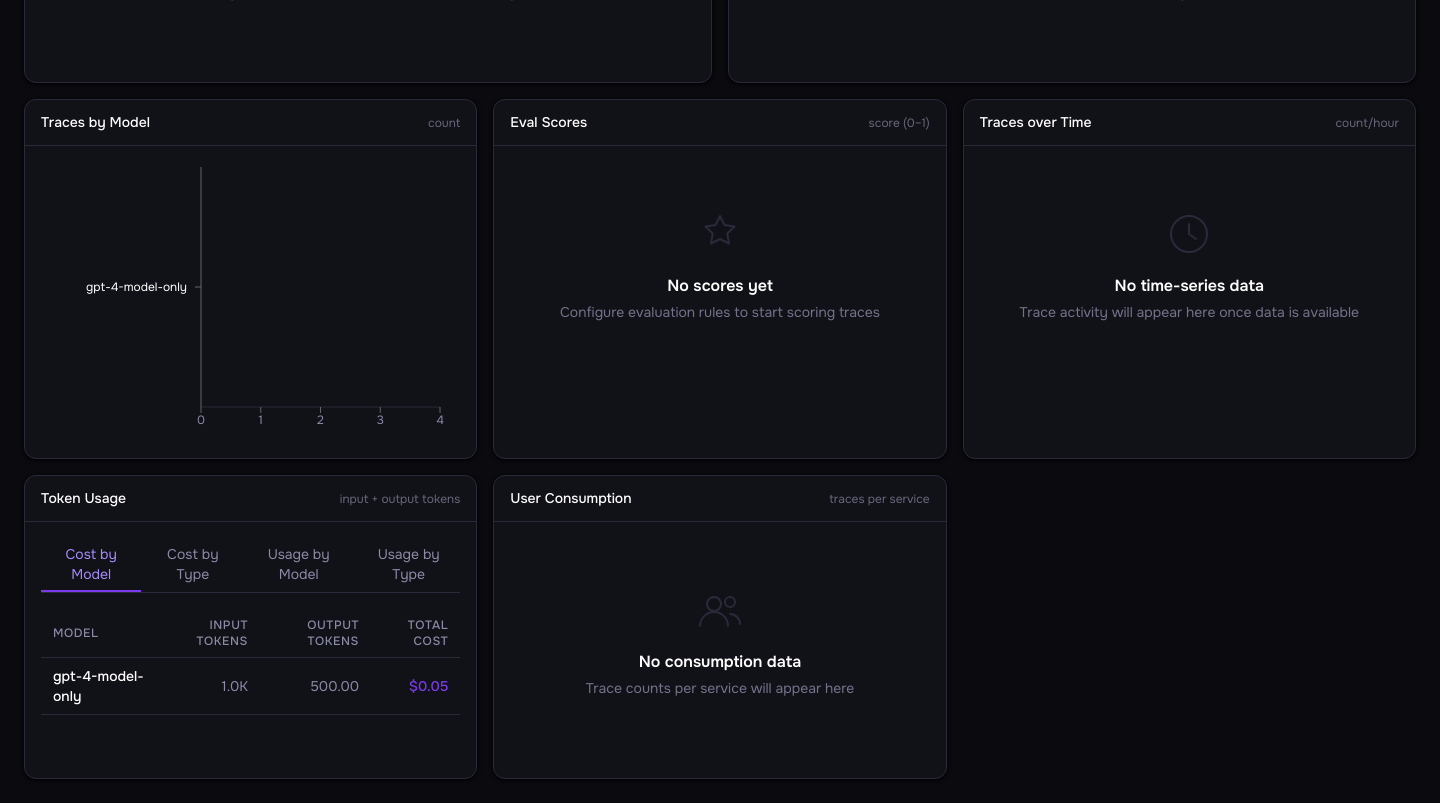
it: DashboardPage › #140: 'Usage by Type' tab renders kind values (e.g. 'llm', 'tool'), not model names
(page scrolled)
// Switch to the "Usage by Type" tab (index 3 of USAGE_TABS)
Click the button "Usage by Type" at (409, 565), box [357,538,460,592]
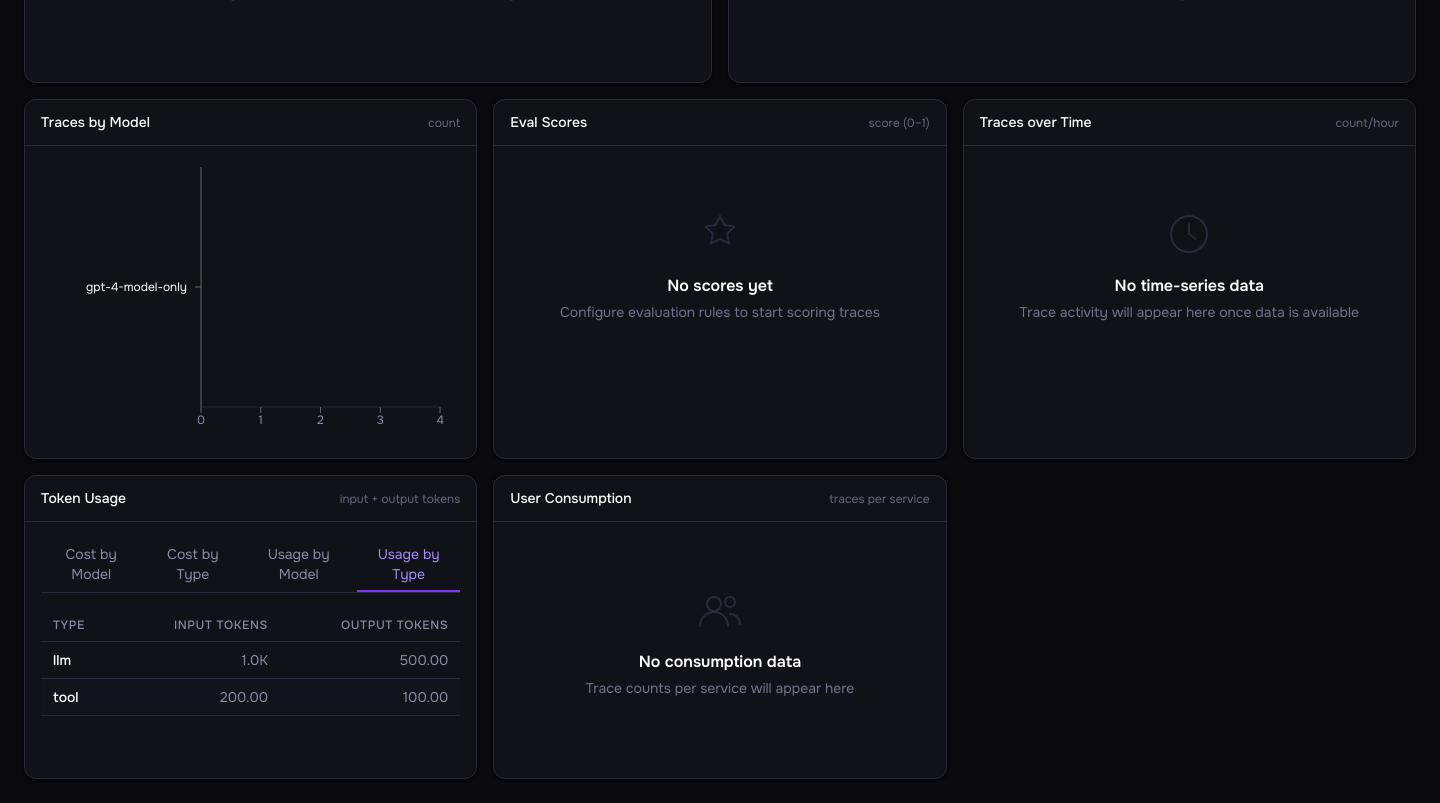
Now the text "llm" is shown, box [41,642,118,678]
Now the text "tool" is shown, box [41,678,118,716]
